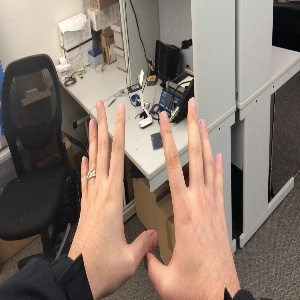hand: (151, 96, 240, 292), (67, 100, 159, 278)
